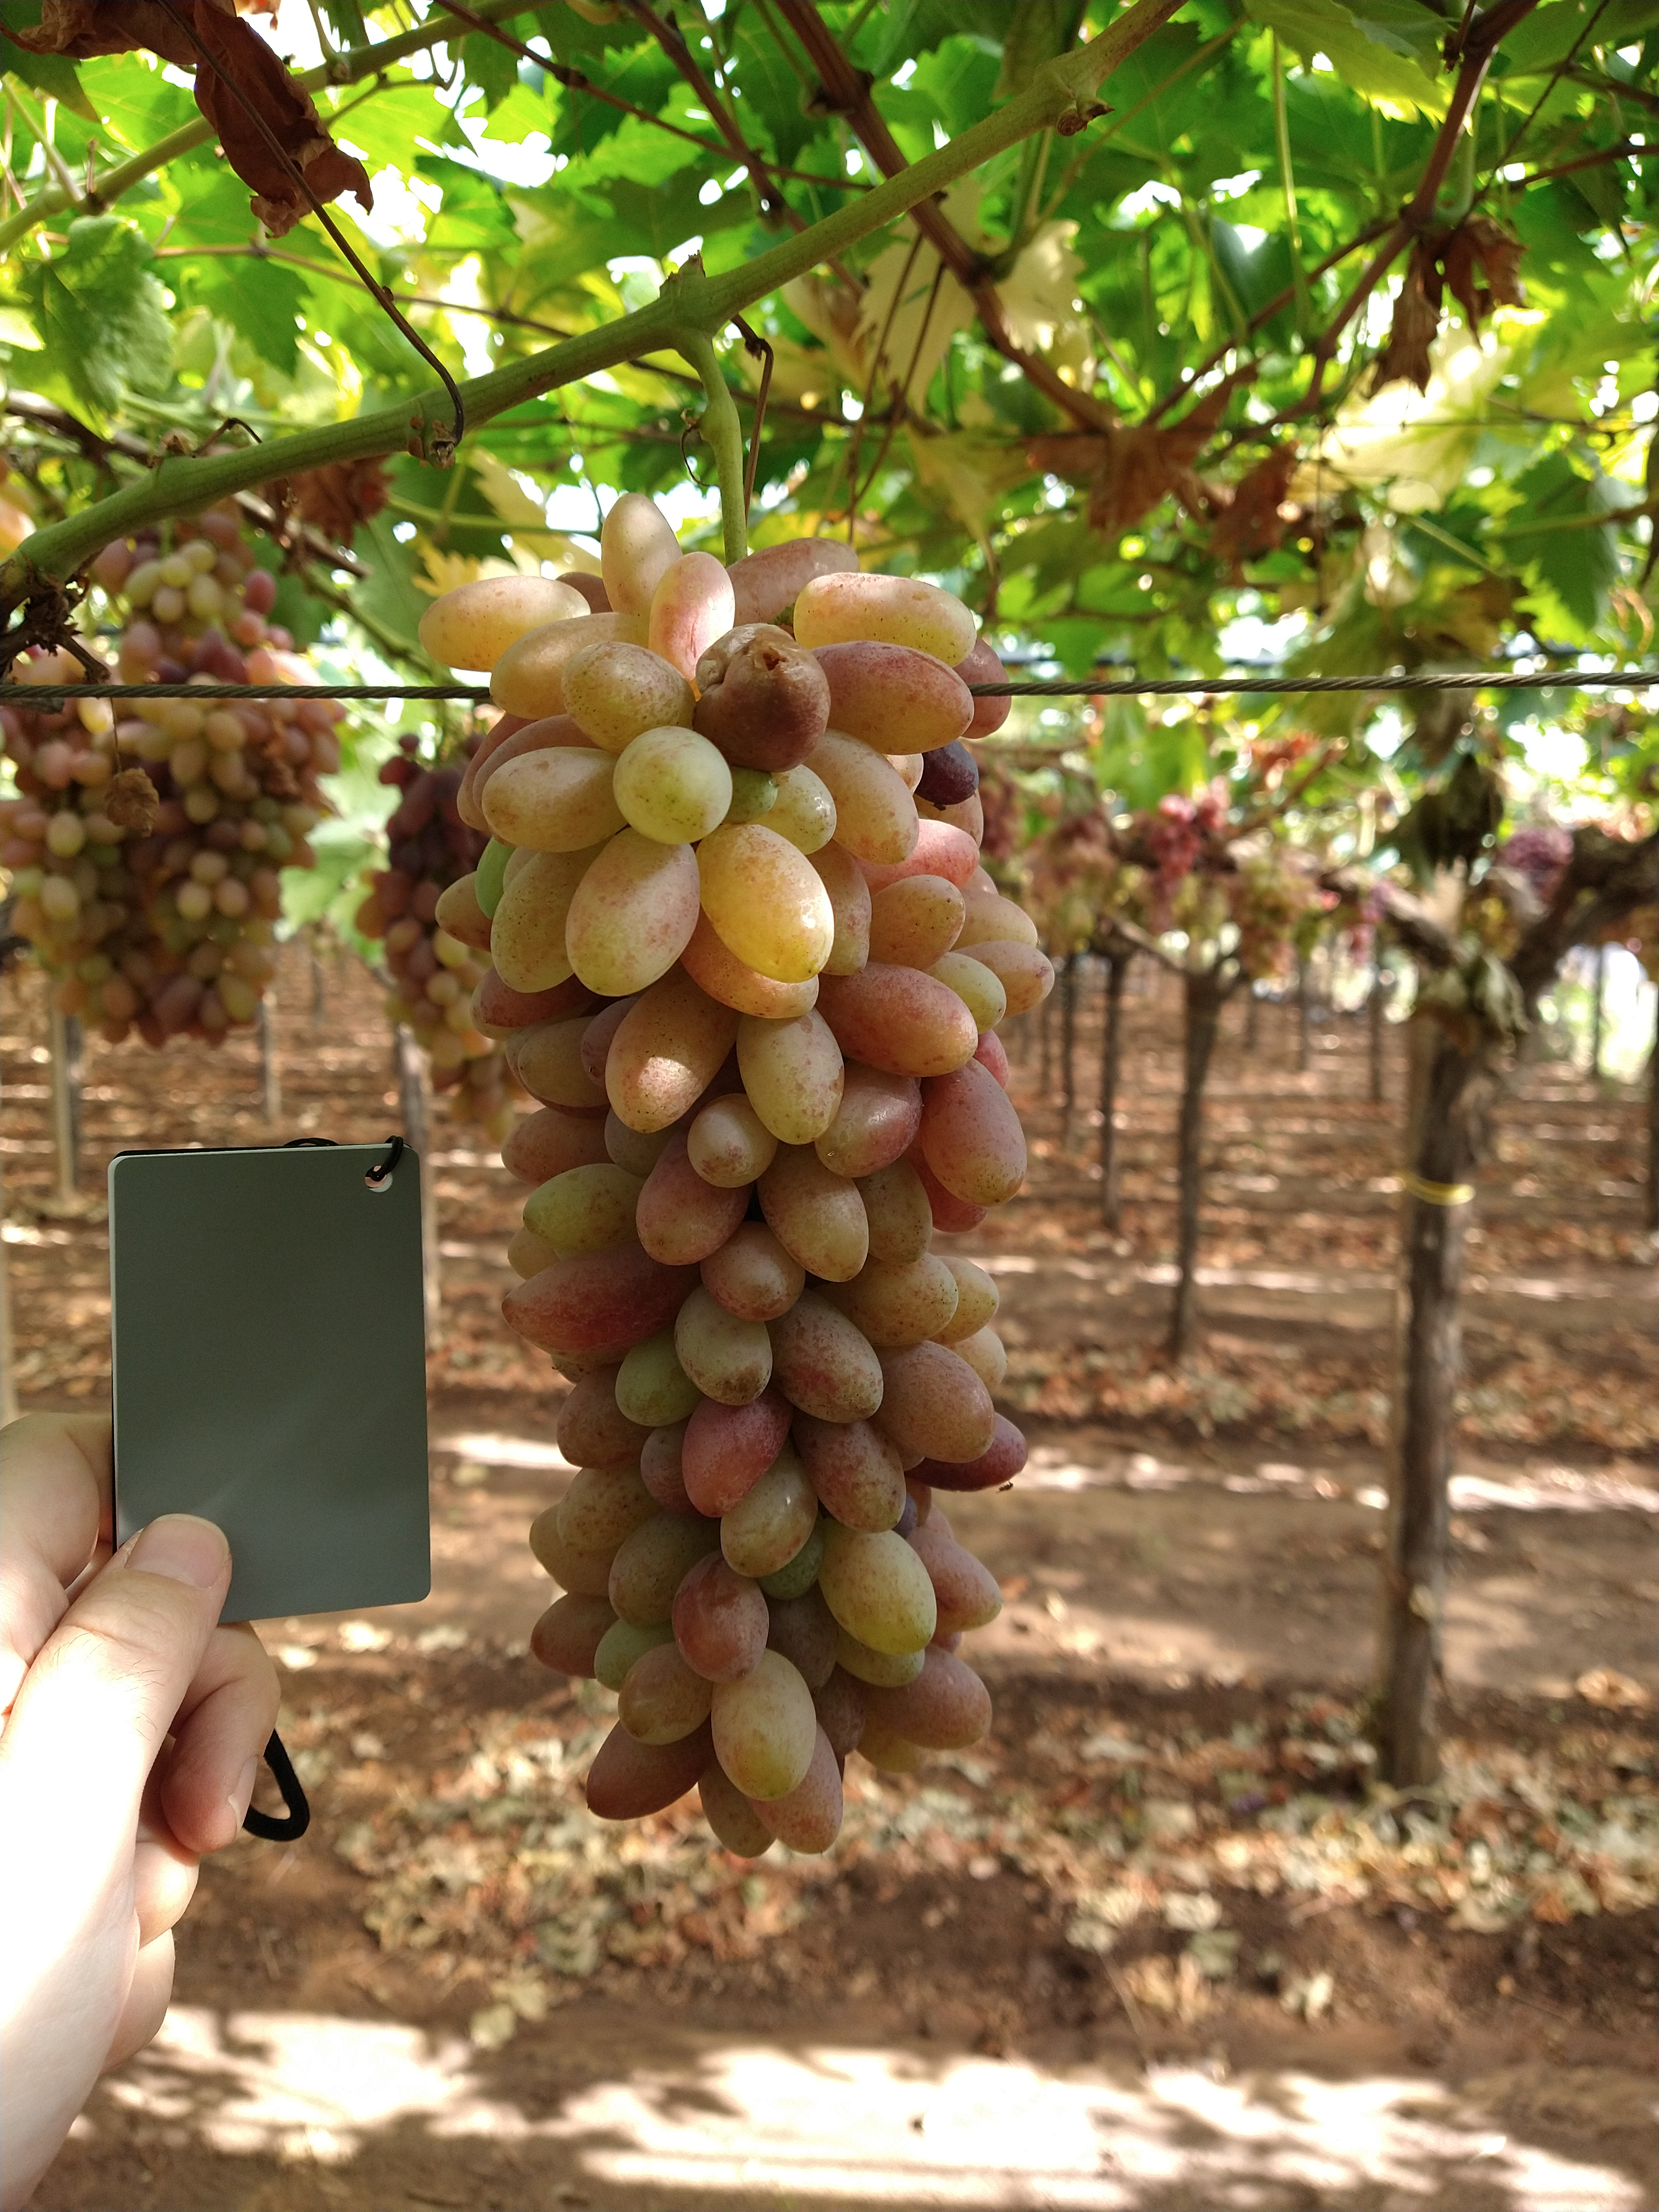acino: (699, 824, 836, 986), (565, 836, 701, 998), (695, 622, 835, 773), (498, 1254, 680, 1366), (817, 961, 981, 1080), (603, 991, 737, 1134), (789, 573, 974, 669), (488, 615, 652, 721), (418, 573, 589, 674), (824, 641, 974, 756), (706, 1648, 817, 1801), (479, 745, 627, 857), (819, 1521, 939, 1656), (810, 725, 922, 867), (559, 637, 697, 751), (756, 1150, 870, 1284), (734, 1010, 845, 1146), (924, 1062, 1028, 1207), (795, 1404, 906, 1536), (613, 726, 735, 846), (769, 1301, 884, 1426), (636, 1146, 755, 1266), (669, 1547, 774, 1683), (882, 1341, 997, 1463), (751, 1717, 849, 1857), (488, 853, 584, 995), (864, 1651, 993, 1754), (680, 1402, 786, 1521), (608, 1514, 714, 1632), (812, 1066, 924, 1177), (584, 1726, 713, 1822), (728, 536, 861, 625), (523, 1162, 643, 1254), (599, 489, 685, 617), (720, 1475, 824, 1578), (650, 550, 735, 672), (617, 1637, 709, 1743), (870, 874, 969, 970), (917, 1527, 1006, 1634), (699, 1238, 809, 1324), (685, 1092, 779, 1191), (856, 1259, 960, 1346), (502, 1104, 603, 1188), (552, 1374, 638, 1470), (528, 1590, 617, 1679), (676, 1322, 769, 1406), (554, 1468, 641, 1554), (957, 944, 1056, 1015), (612, 1331, 685, 1426), (868, 1167, 934, 1266), (699, 1777, 775, 1862), (934, 951, 1007, 1035), (514, 1015, 579, 1109)
